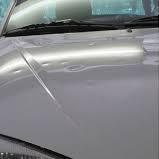dent: (9, 57, 88, 78)
